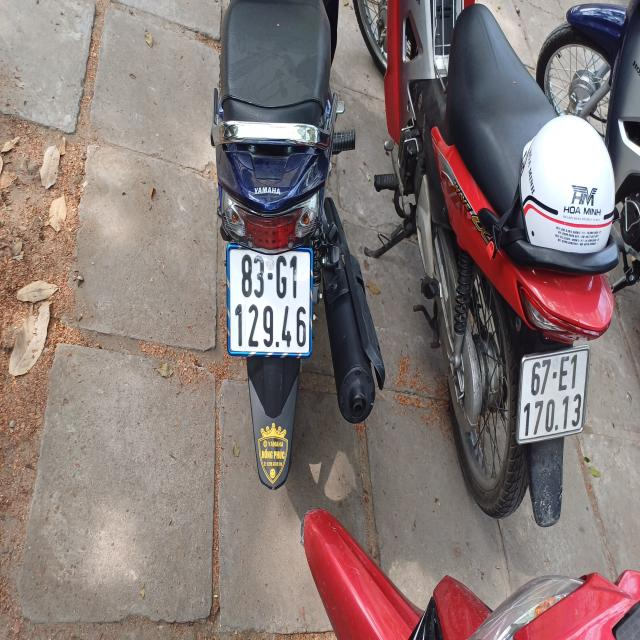0: (545, 398, 555, 432)
1: (233, 303, 245, 350), (290, 256, 298, 302), (562, 396, 570, 430), (524, 399, 531, 437), (571, 356, 577, 389)
2: (246, 308, 258, 347)
3: (250, 255, 267, 296), (572, 395, 581, 427)
4: (282, 303, 291, 347)
6: (296, 303, 307, 349), (530, 358, 541, 399)
7: (539, 357, 552, 397), (533, 400, 544, 432)
8: (239, 256, 253, 298)
9: (262, 303, 276, 347)
E: (559, 356, 569, 391)
G: (275, 256, 289, 302)
